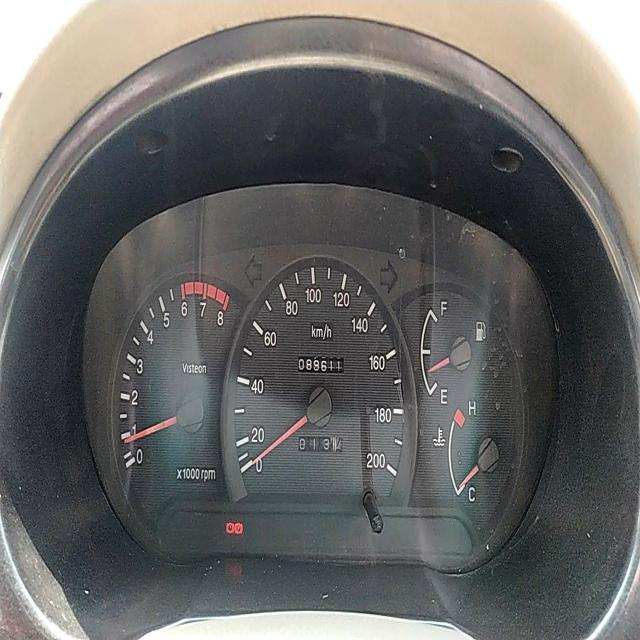odometer: (297, 356, 344, 373)
